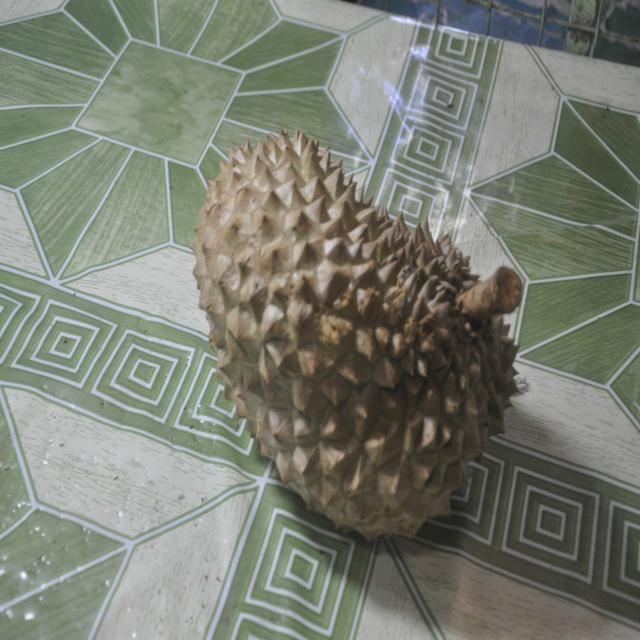mature: (191, 130, 521, 539)
